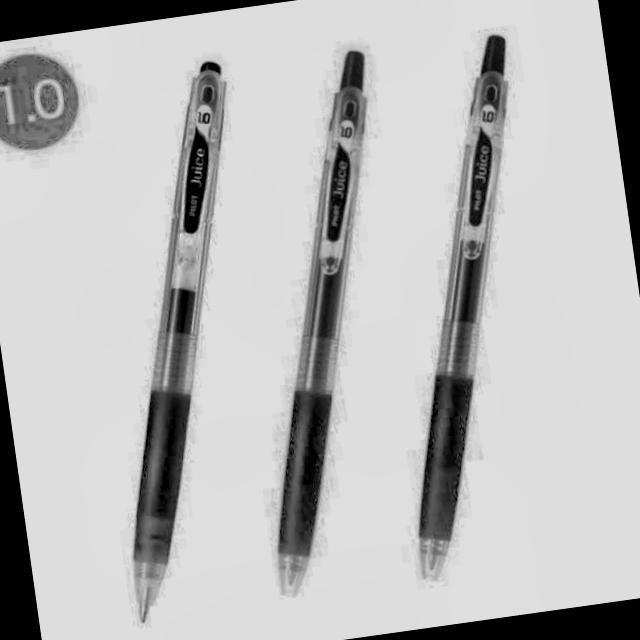Pen: (56, 36, 314, 640), (200, 27, 443, 638), (338, 10, 583, 612)
